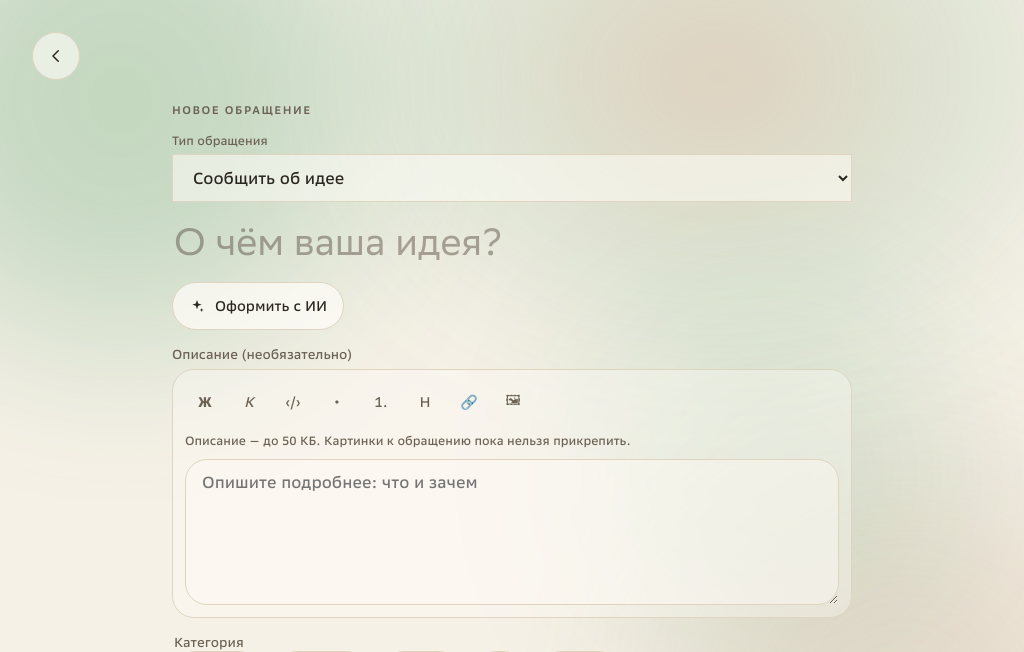
Test: IdeaSubmitScreen — AI-обогащение подачи (MF-1862) › 429 от /ideas/enrich показывает понятный текст лимита
Step 1. Click the button "Оформить с ИИ" → (258, 306), box [172, 282, 344, 330]
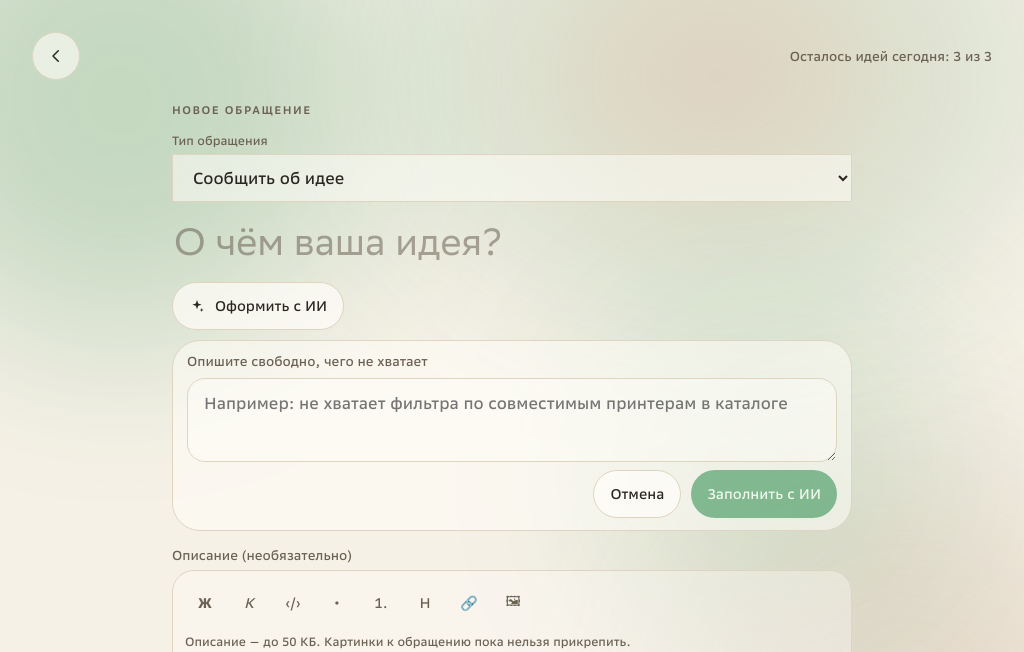
Step 2. Replace the text in the text box labelled "Опишите свободно, чего не хватает" with "хочу фильтровать каталог по цвету" → (512, 420), box [187, 378, 837, 462]
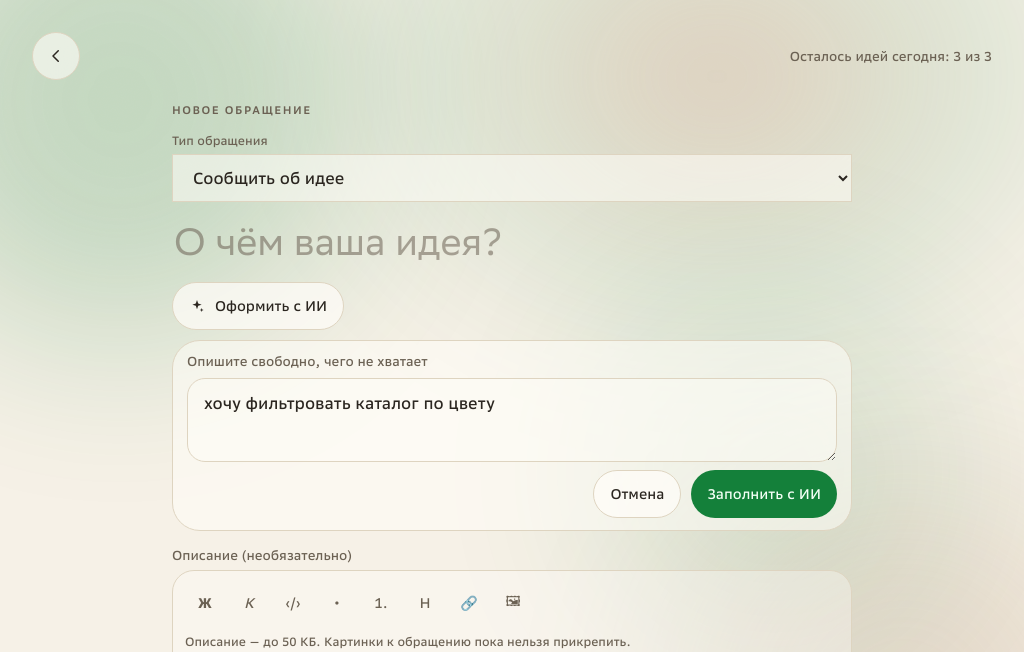
Step 3. Click the button "Заполнить с ИИ" → (764, 494), box [691, 470, 837, 518]
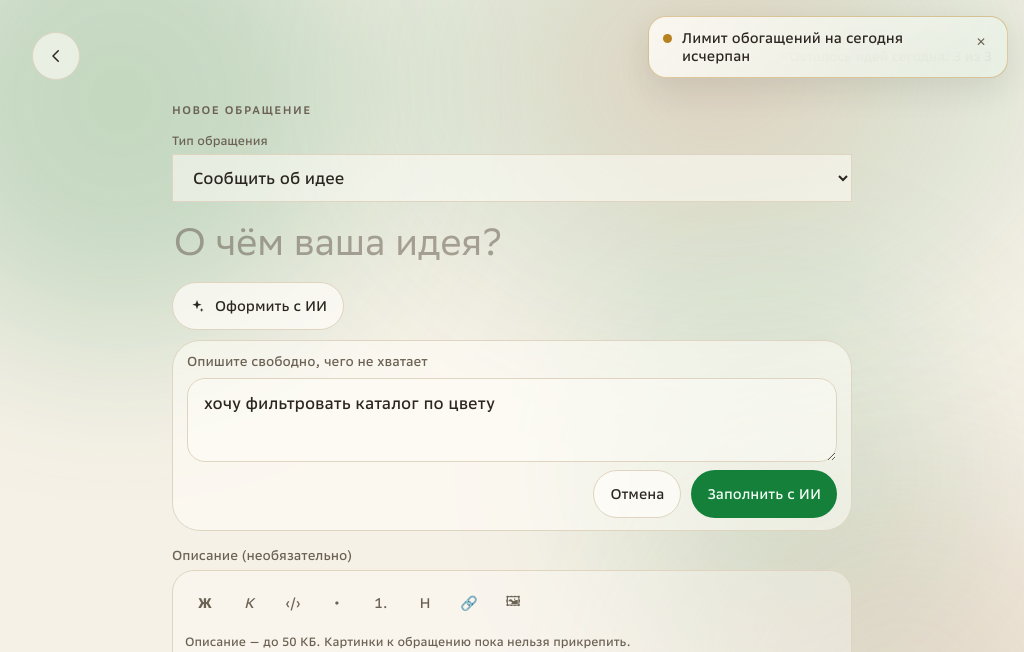
Expected: the text "Лимит обогащений на сегодня исчерпан" is shown, [682, 29, 903, 65]
